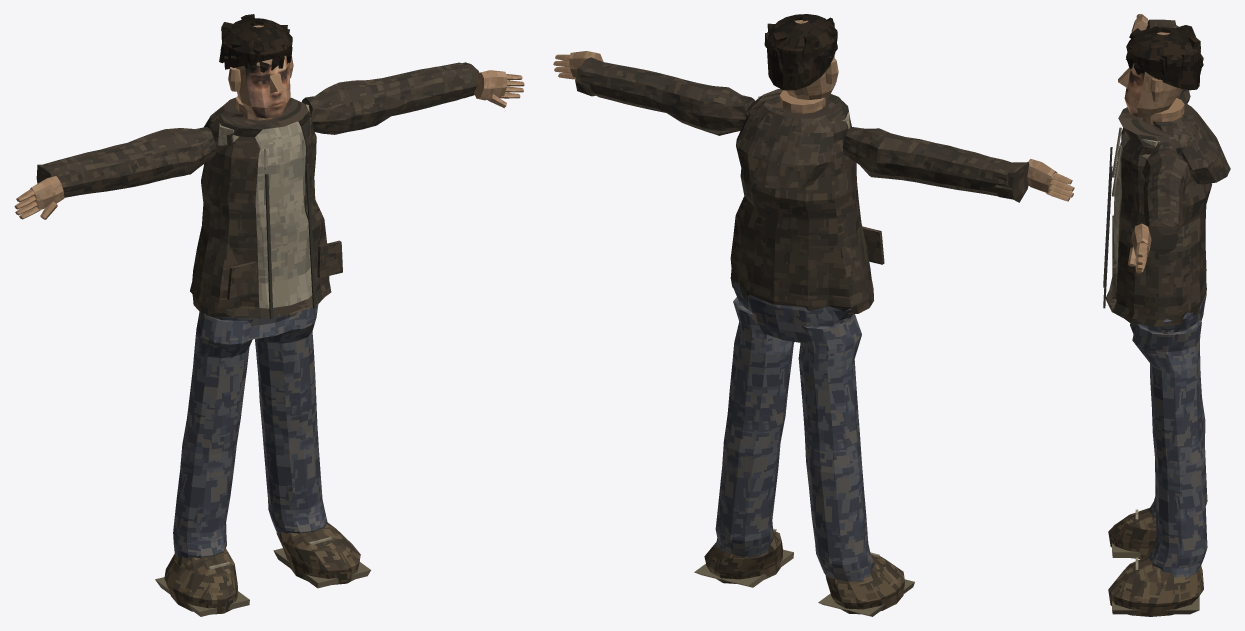
File: CH_ReferenceSurvivor_Mixamo_TPose.fbx
The picture shows the model from 3 angles, left to right: view 1: azimuth 30°, elevation 25°; view 2: azimuth 150°, elevation 25°; view 3: azimuth 270°, elevation 25°; orthographic projection. The views are drawn at different scales.
Visible parts, largest first — view 1: CH_ReferenceSurvivor_Body_LOD0; view 2: CH_ReferenceSurvivor_Body_LOD0; view 3: CH_ReferenceSurvivor_Body_LOD0.
Boxes of the visible parts, x1,y1,x2,y2 form: CH_ReferenceSurvivor_Body_LOD0: (14, 14, 524, 616); CH_ReferenceSurvivor_Body_LOD0: (553, 14, 1074, 616); CH_ReferenceSurvivor_Body_LOD0: (1103, 14, 1230, 616).
Bounding box in the file's own units: 172 × 180 × 38.3.
1 material, 1 textured.
